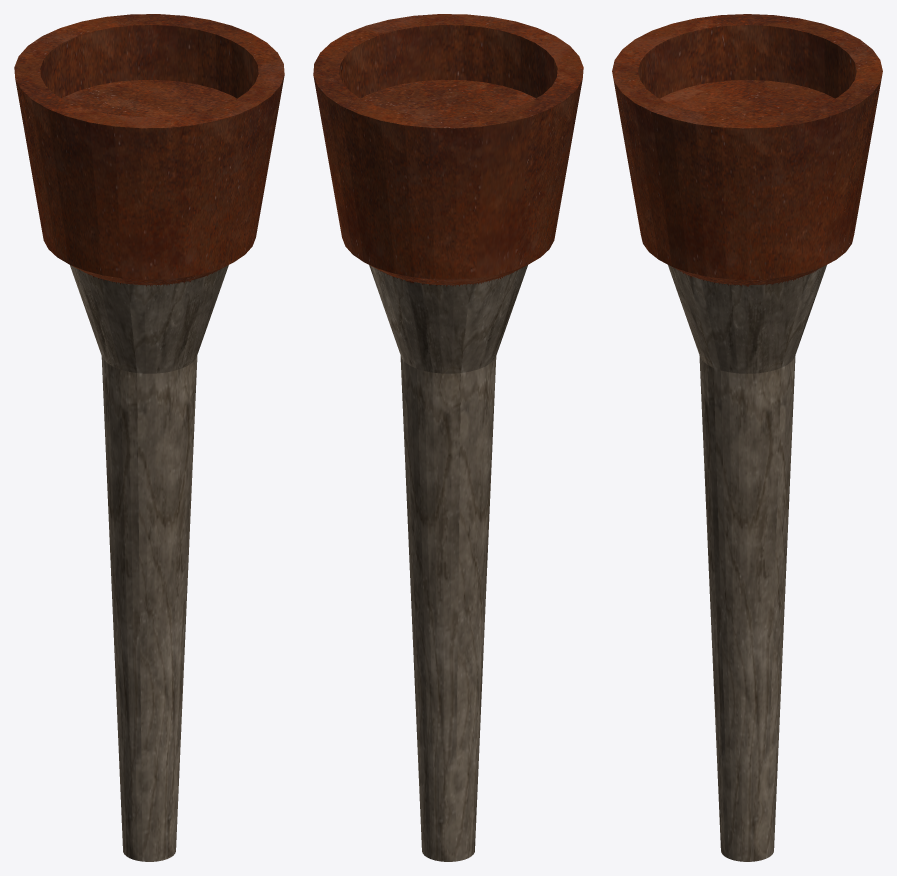
The model's file is torch.glb.
The picture shows the model from 3 angles, left to right: view 1: azimuth 30°, elevation 25°; view 2: azimuth 150°, elevation 25°; view 3: azimuth 270°, elevation 25°; orthographic projection.
Parts seen in each view (by area): view 1: Cylinder; view 2: Cylinder; view 3: Cylinder.
Boxes of the visible parts, x1,y1,x2,y2 form: Cylinder: [14, 14, 284, 861]; Cylinder: [313, 14, 583, 861]; Cylinder: [612, 14, 882, 861].
Bounding box in the file's own units: 0.3221 × 1.02 × 0.3221.
1 material, 1 textured.
